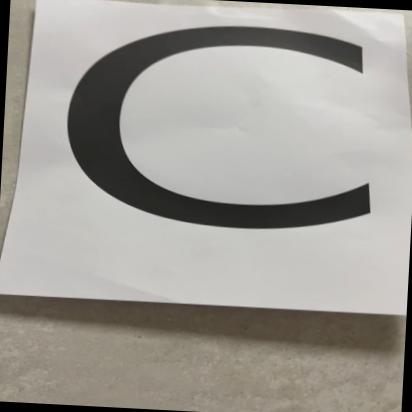seat: (23, 0, 400, 323)
